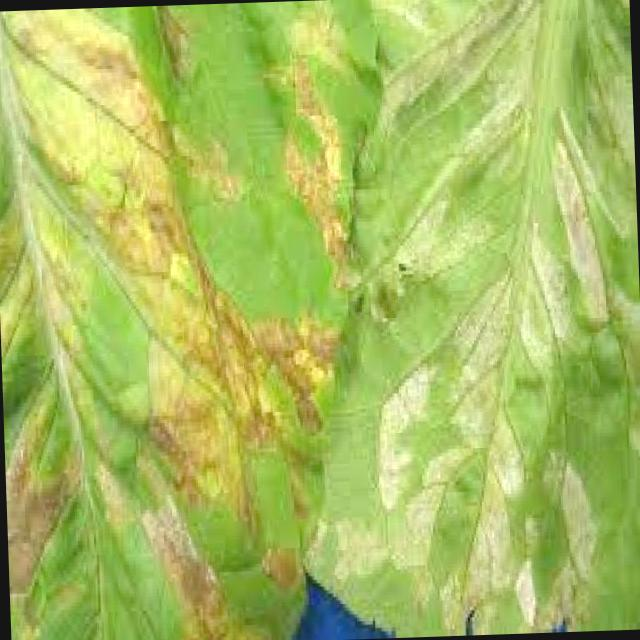Downy_mildew: (15, 22, 299, 615), (373, 5, 628, 590)
